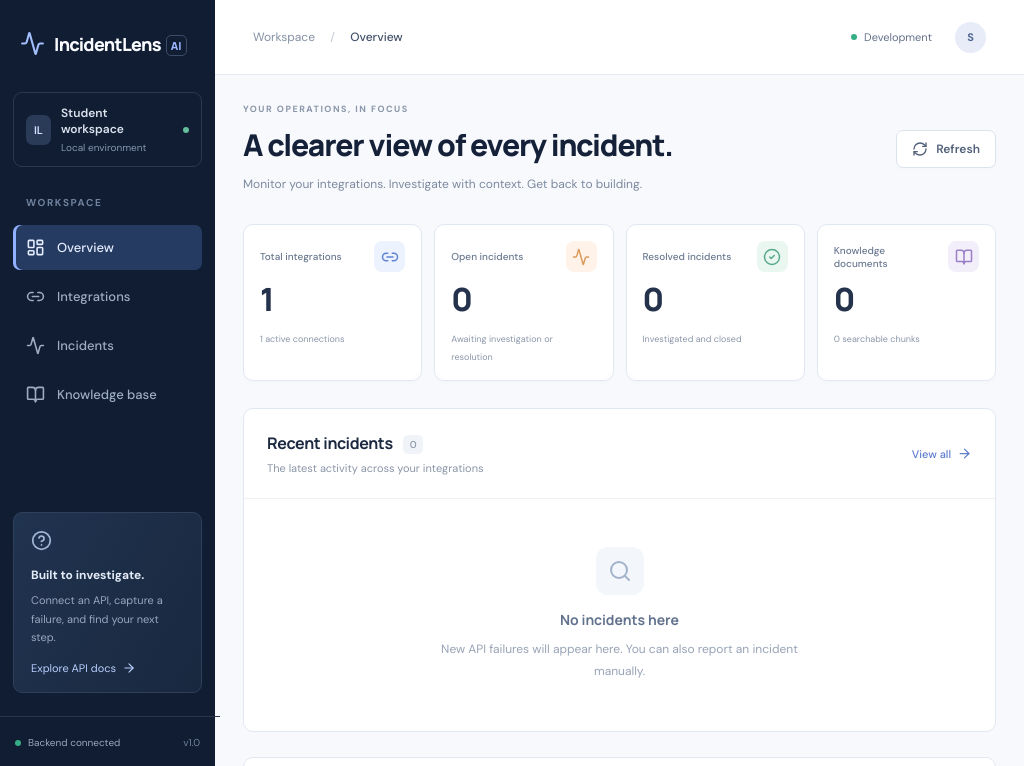
Test: workspace › executes a check and reports a created incident
expect the text "Backend connected" is shown: met, box [28,736,120,749]
Click the button "Integrations": x=108, y=296 [13,274,202,319]
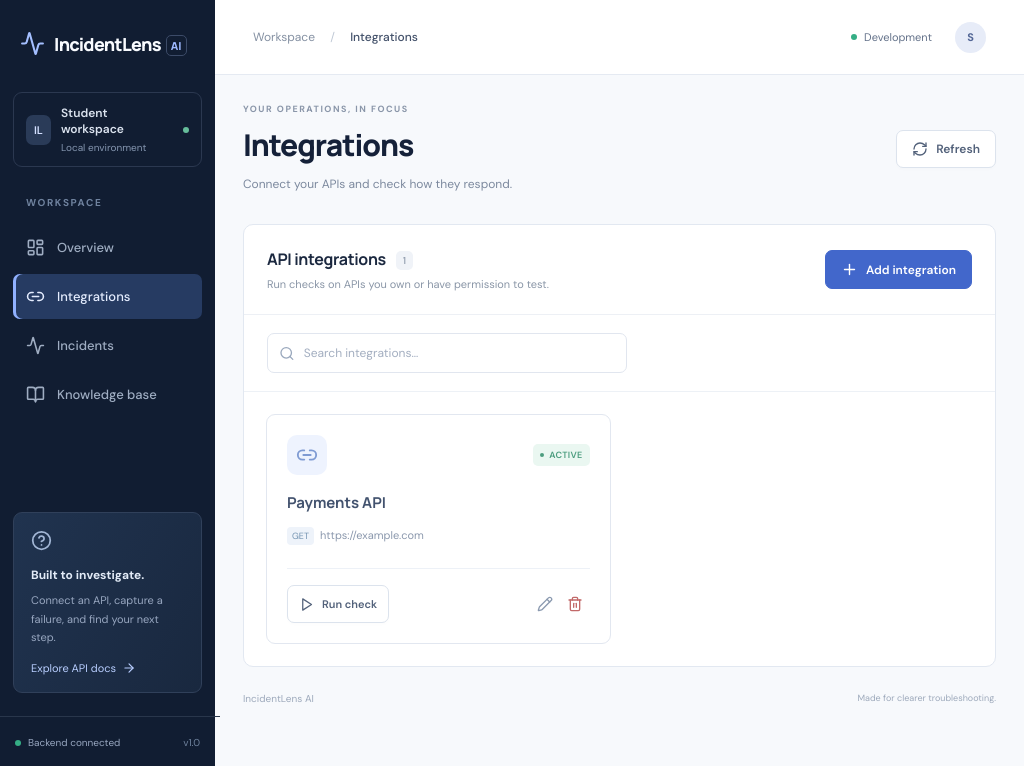
Click the button "Run check": x=338, y=604 [287,585,389,623]
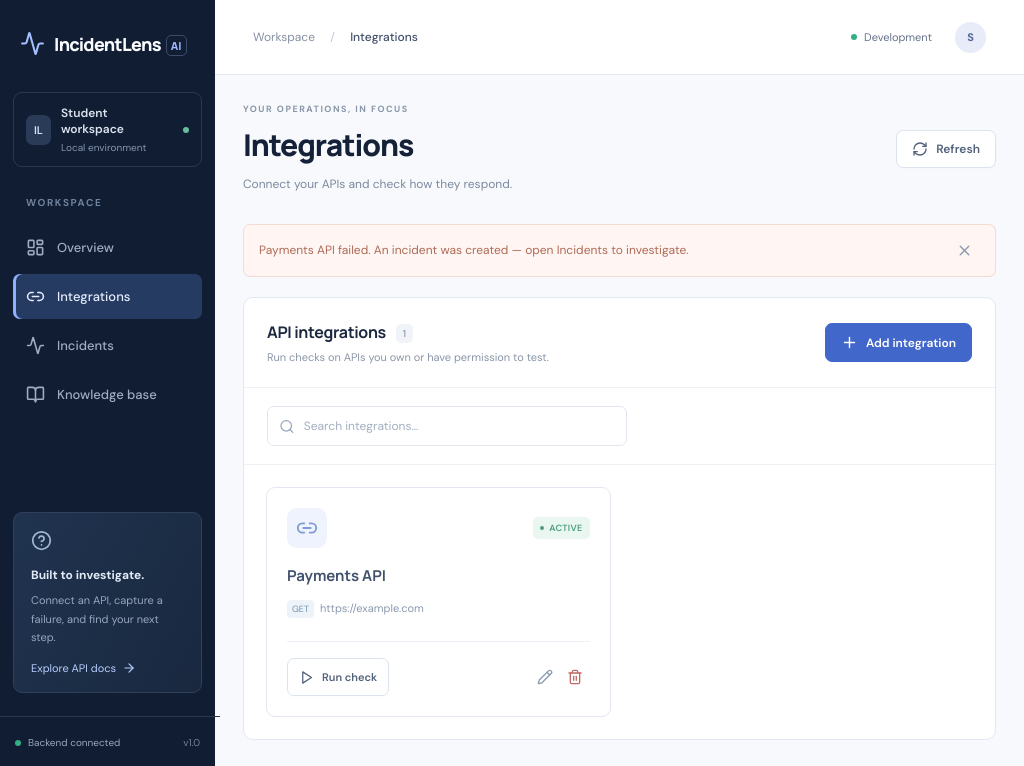
expect the message shows "An incident was created": met, box [259,242,689,258]
